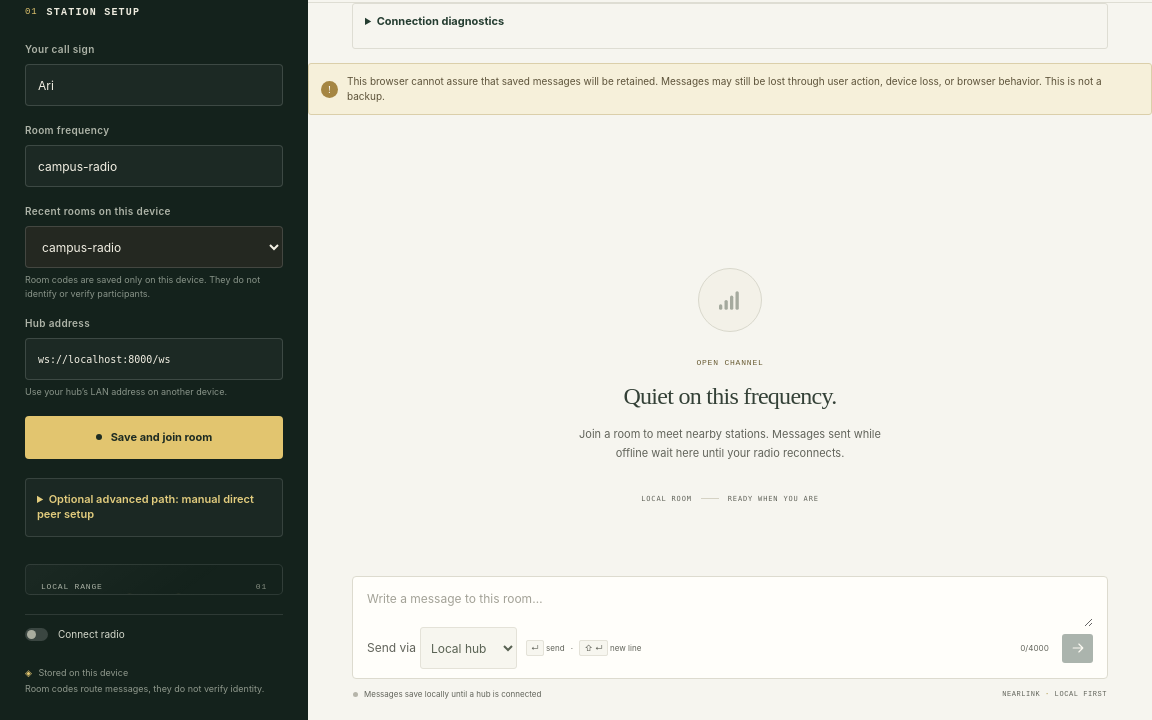
Test: browser app messaging flow › shows partial and stops waiting when the hub rate-limits a sync control without an ID
(page scrolled)
Click the button "Connect radio" at {"x": 154, "y": 634}, box x1=25 y1=614 x2=283 y2=654
(page scrolled)
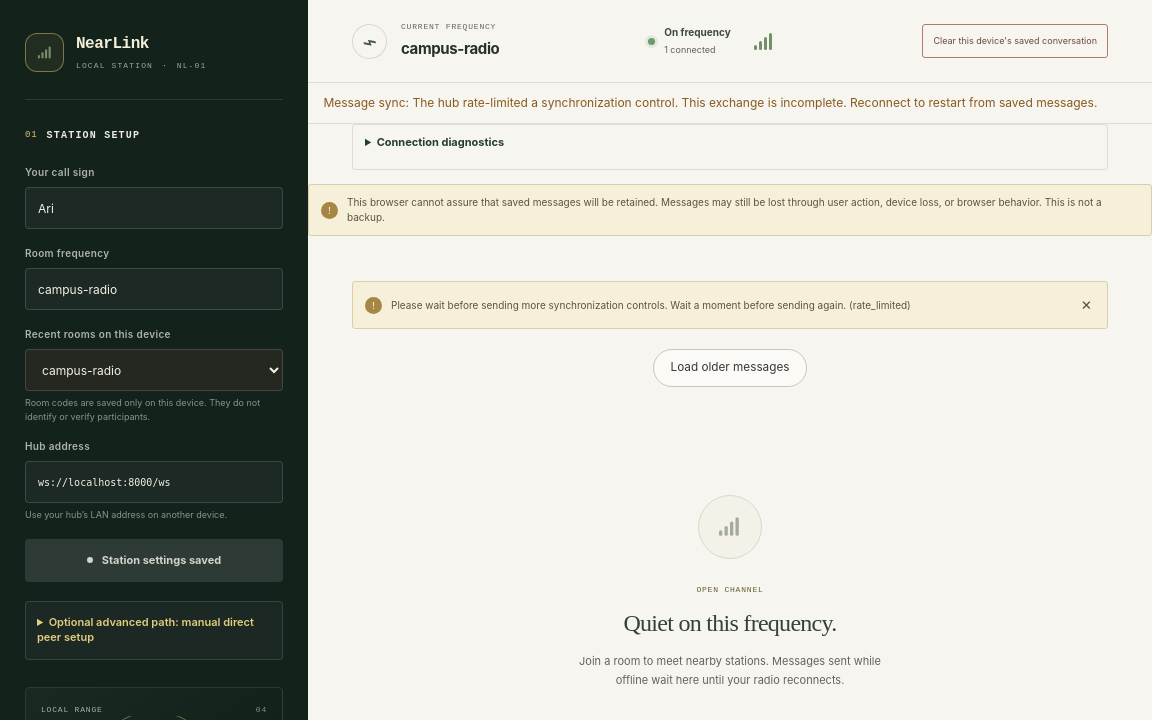
Expected: the text "On frequency" is shown, x1=664 y1=25 x2=731 y2=40
Expected: the text "Message sync: The hub rate-limited a synchronization control" is shown, x1=308 y1=83 x2=1151 y2=124
